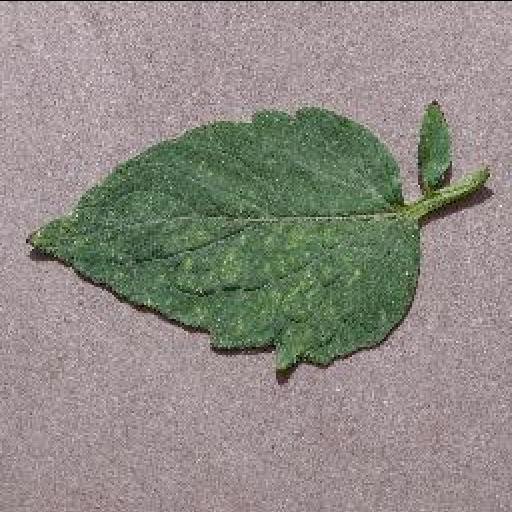disease_tomato: (26, 108, 418, 378)
